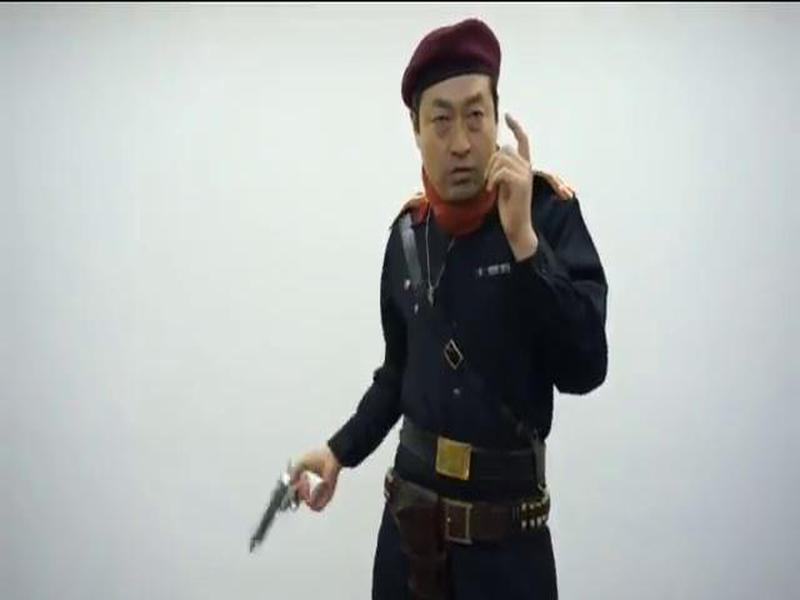Revolver: (240, 454, 332, 567)
